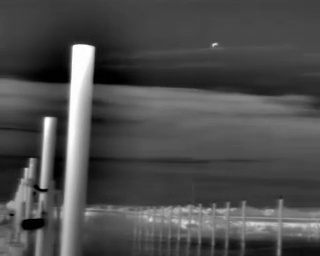BIRD: (209, 39, 221, 51)
